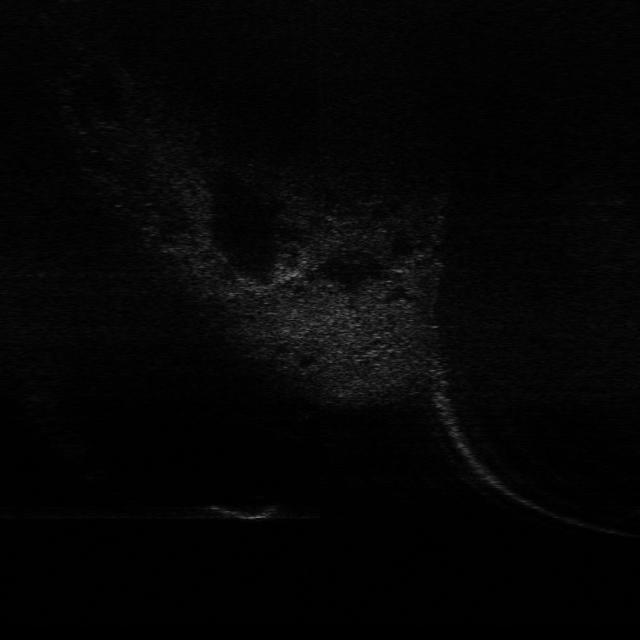cube: (201, 498, 297, 524)
